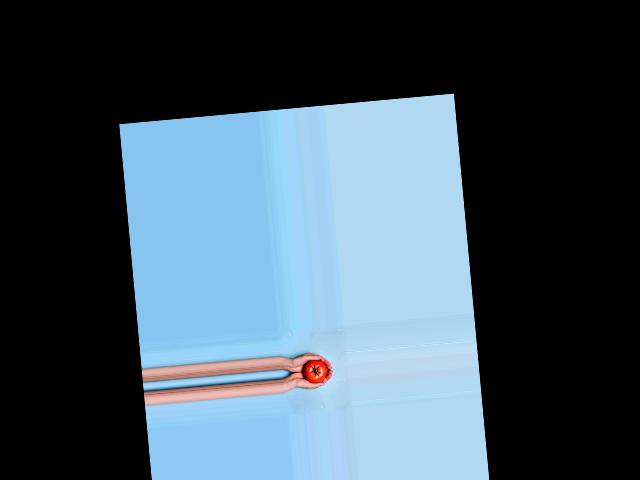tomato: (302, 358, 327, 383)
